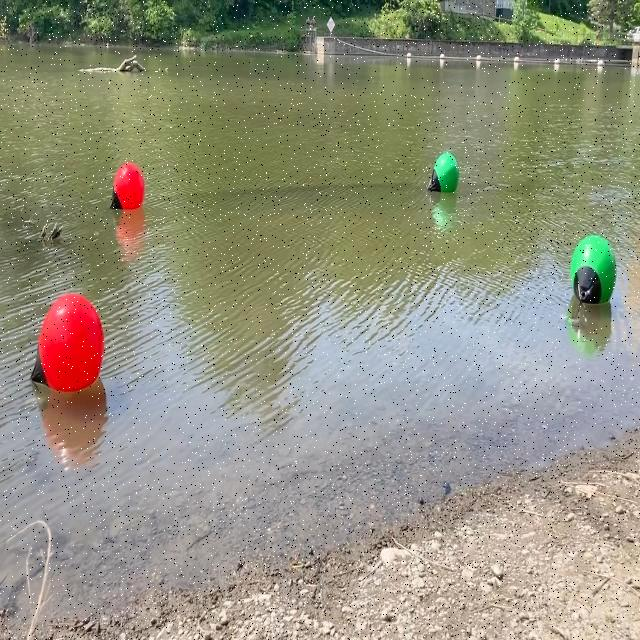buoy: (32, 288, 104, 396), (568, 235, 618, 308), (109, 160, 148, 218), (427, 148, 458, 201)
